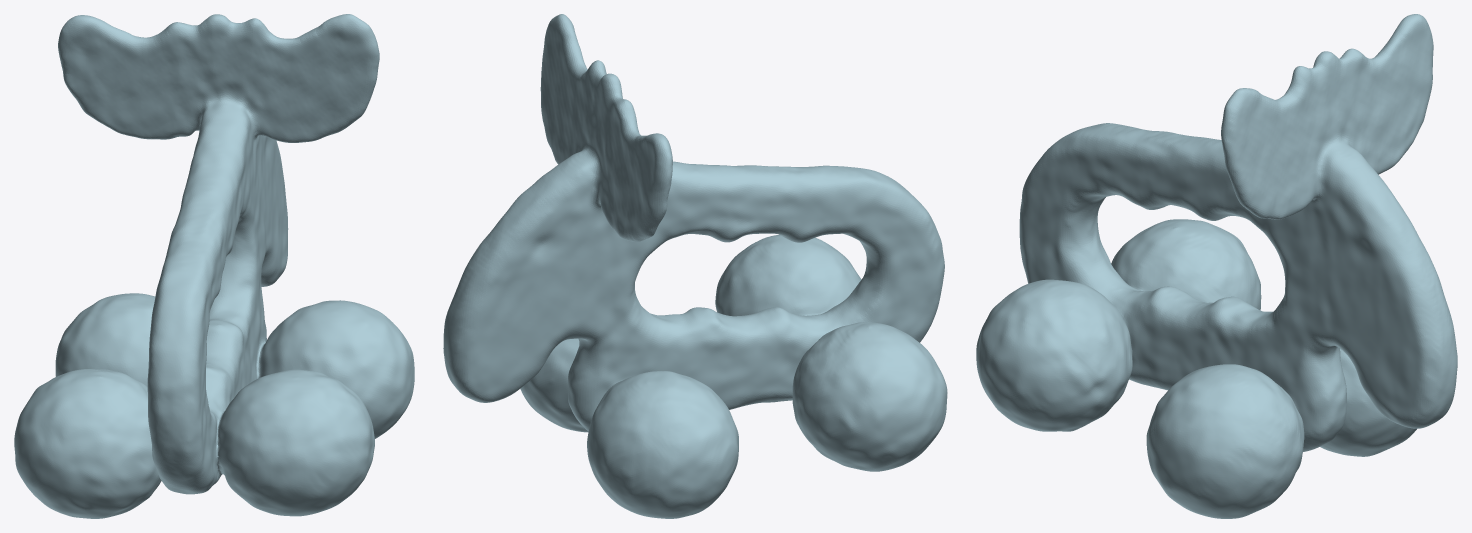
The model's file is levelsetudf_elk.glb.
The picture shows the model from 3 angles, left to right: view 1: azimuth 30°, elevation 25°; view 2: azimuth 150°, elevation 25°; view 3: azimuth 270°, elevation 25°; orthographic projection. The views are drawn at different scales.
Parts seen in each view (by area): view 1: levelsetudf_elk.ply; view 2: levelsetudf_elk.ply; view 3: levelsetudf_elk.ply.
Boxes of the visible parts, x1,y1,x2,y2 form: levelsetudf_elk.ply: (14, 14, 414, 518); levelsetudf_elk.ply: (443, 14, 947, 518); levelsetudf_elk.ply: (976, 14, 1457, 518).
Size of the model in its own units: 0.9181 by 0.9245 by 0.9207.
